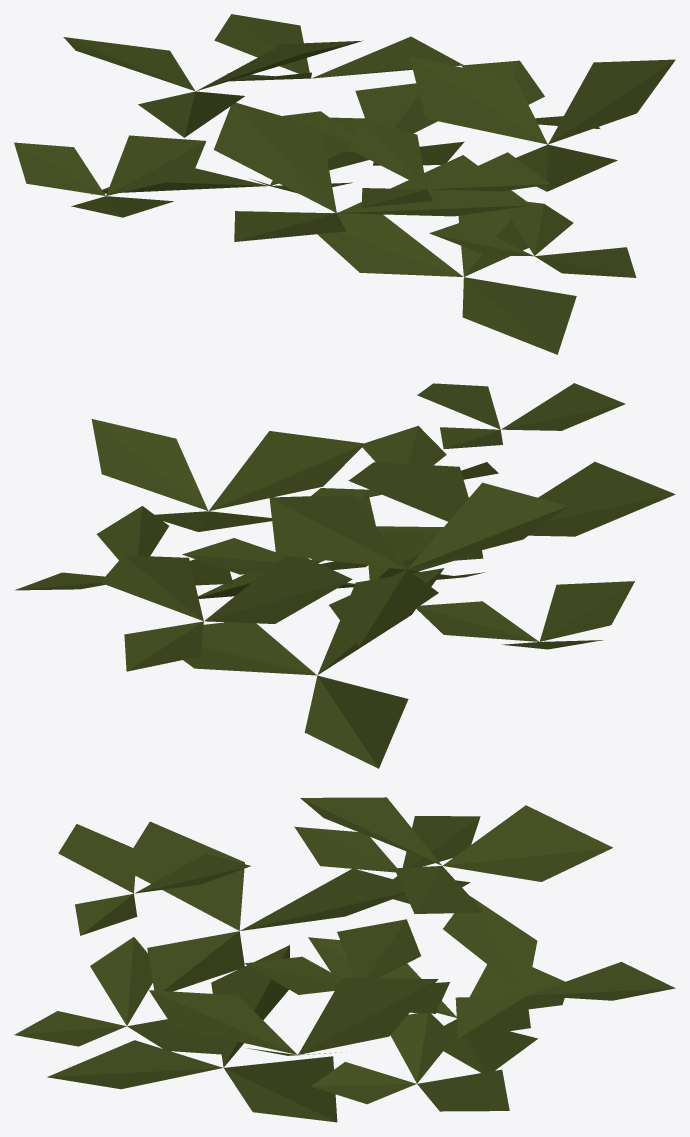
Rendered from SM_Clover_Small.fbx.
3 views of the same model, one above another, from view 1: azimuth 30°, elevation 25°; view 2: azimuth 150°, elevation 25°; view 3: azimuth 270°, elevation 25° (orthographic). The views are drawn at different scales.
Visible parts, largest first — view 1: clover-small; view 2: clover-small; view 3: clover-small.
Part boxes in pixels (x1,y1,x2,y2): clover-small: (14, 14, 675, 354); clover-small: (15, 383, 675, 768); clover-small: (14, 797, 675, 1122).
Bounding box in the file's own units: 0.4093 × 0.1292 × 0.425.
